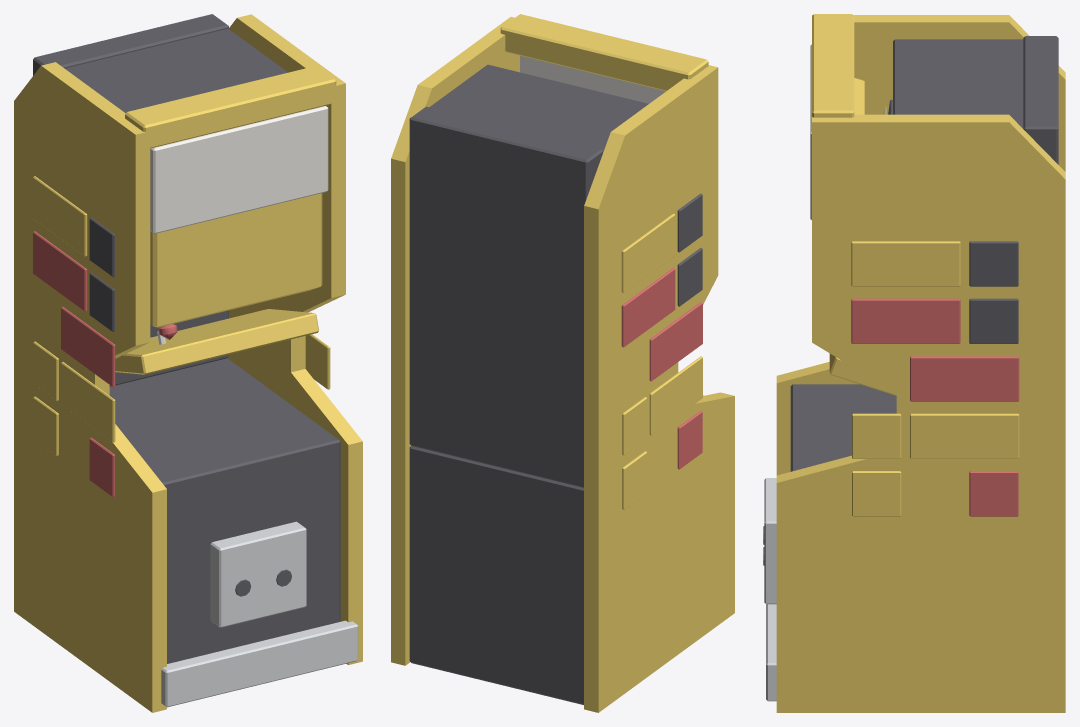
File: amusement-arcade-and-seaside-pier-arcade-cabinet-amber-ead119c8__35405.glb
3 views of the same model, side by side, from view 1: azimuth 30°, elevation 25°; view 2: azimuth 150°, elevation 25°; view 3: azimuth 270°, elevation 25° (orthographic). The views are drawn at different scales.
Parts seen in each view (by area): view 1: arcade-cabinet-amber; view 2: arcade-cabinet-amber; view 3: arcade-cabinet-amber.
Part boxes in pixels (x1=…): arcade-cabinet-amber: x1=14, y1=14, x2=362, y2=712; arcade-cabinet-amber: x1=391, y1=14, x2=734, y2=712; arcade-cabinet-amber: x1=763, y1=14, x2=1065, y2=712.
Size of the model in its own units: 0.7461 by 1.87 by 0.858.
